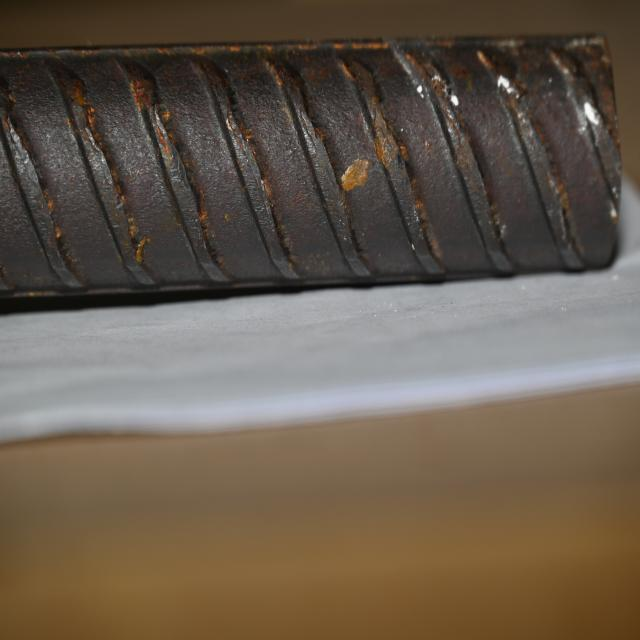ribbed bar: (2, 23, 625, 312)
